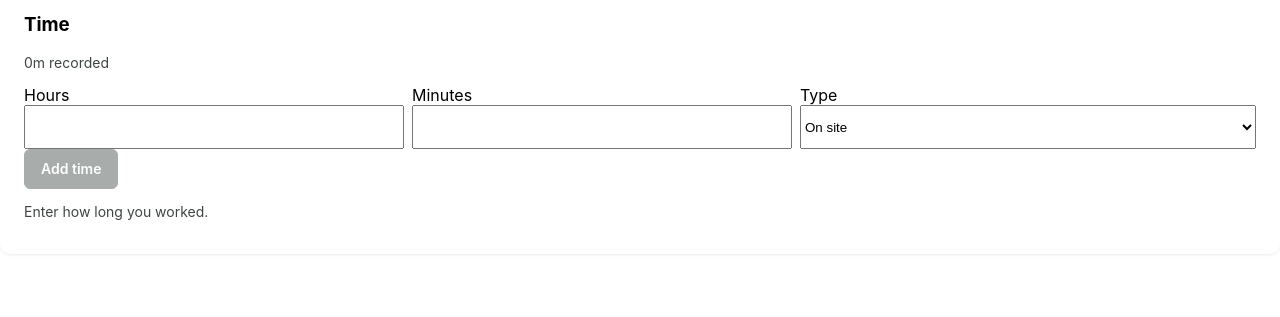
it: WOL-2: one press records the hours once › 'could not save offline' keeps the entry; pressing again REPLAYS -- one entry
This screenshot has width=1280, height=317.
Type "2" into the number field labelled "Hours" at coordinates (214, 127), box [24, 105, 404, 149]
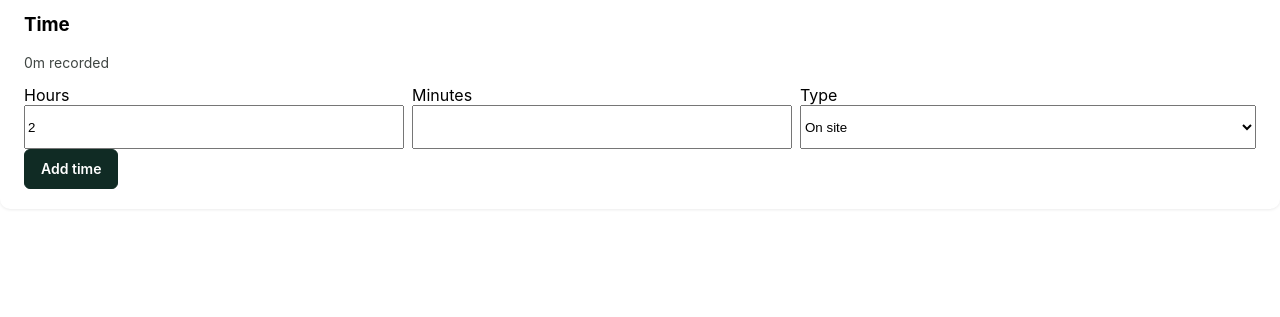
Type "0" into the number field labelled "Minutes" at coordinates (602, 127), box [412, 105, 792, 149]
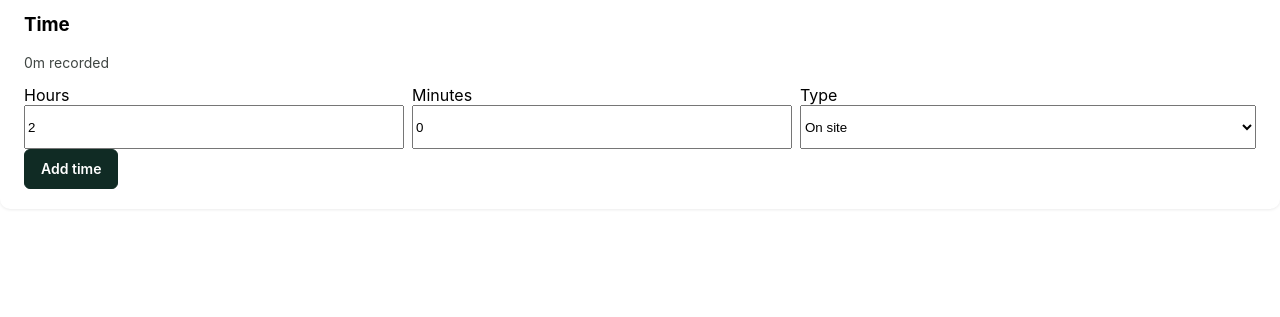
Click the button "Add time" at coordinates (71, 169), box [24, 149, 118, 189]
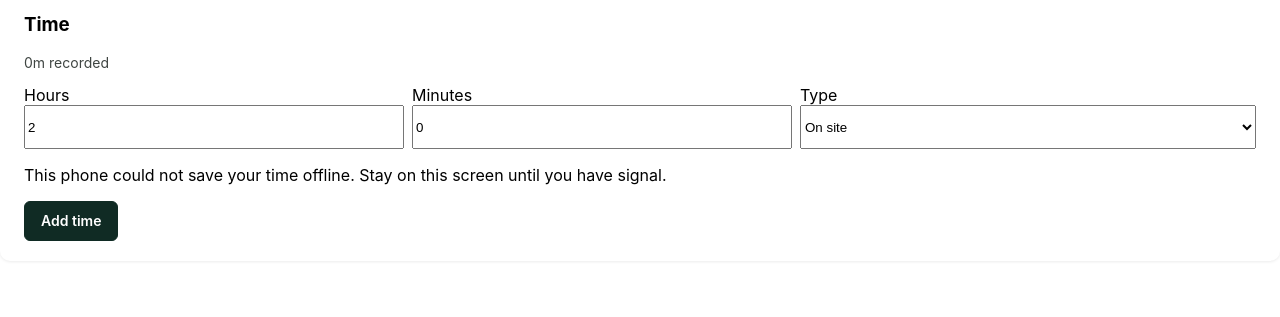
Result: the text "could not save your time offline" is shown at [24, 165, 666, 185]
Click the button "Add time" at coordinates (71, 221), box [24, 201, 118, 241]
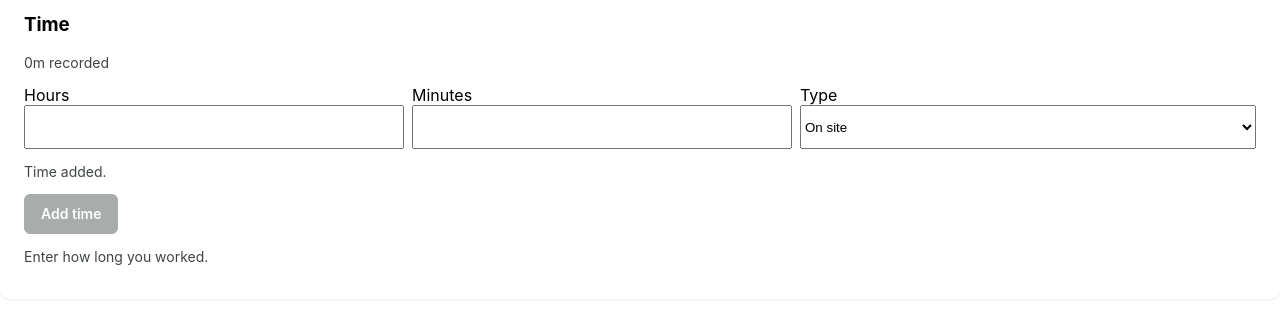
Result: the text "could not save your time offline" is gone
